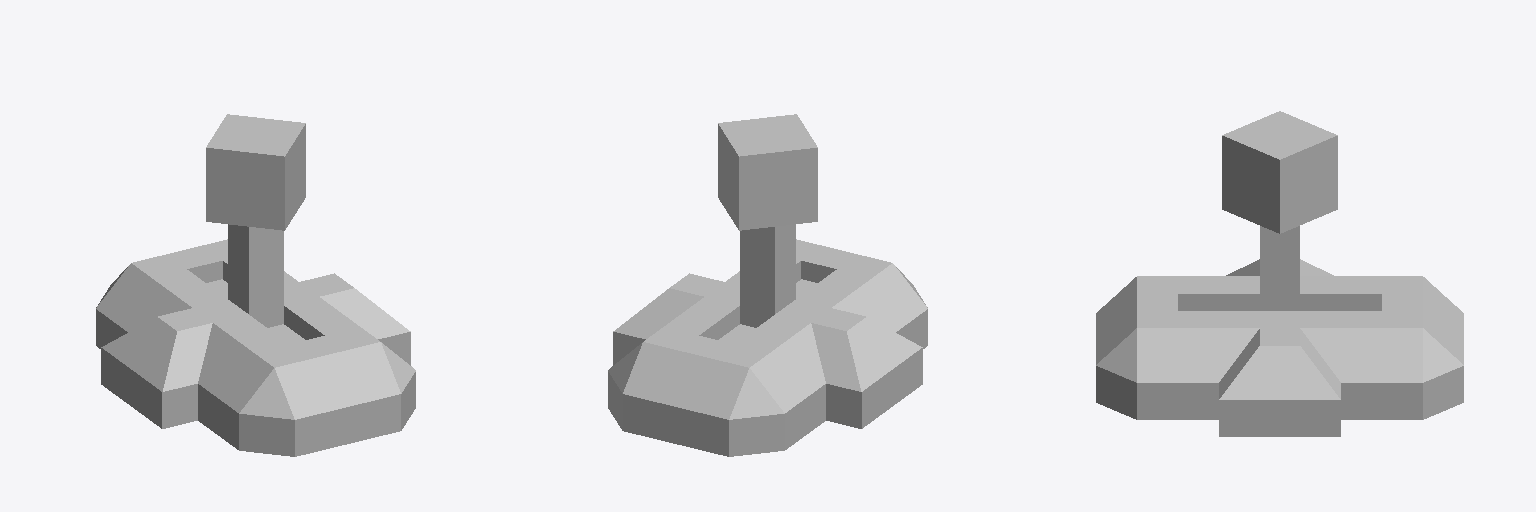
File: lever_3state_0.obj
3 views of the same model, side by side, from view 1: azimuth 30°, elevation 25°; view 2: azimuth 150°, elevation 25°; view 3: azimuth 270°, elevation 25° (orthographic).
Visible parts, largest first — view 1: 3-STATE_Circle.002, LEVER_Cube.049; view 2: 3-STATE_Circle.002, LEVER_Cube.049; view 3: 3-STATE_Circle.002, LEVER_Cube.049.
Boxes of the visible parts, <box> form: 3-STATE_Circle.002: <box>96,239,415,456</box>; LEVER_Cube.049: <box>206,114,305,327</box>; 3-STATE_Circle.002: <box>608,239,927,456</box>; LEVER_Cube.049: <box>718,114,817,327</box>; 3-STATE_Circle.002: <box>1096,259,1463,436</box>; LEVER_Cube.049: <box>1222,111,1337,310</box>.
Bounding box in the file's own units: 0.4375 × 0.4062 × 0.5625.